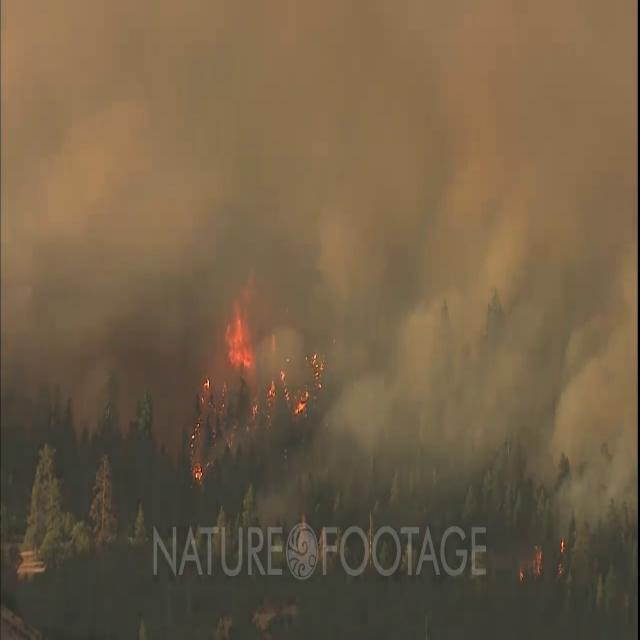Fire: (188, 298, 326, 484), (534, 544, 542, 574)
Smoke: (1, 1, 638, 550)
